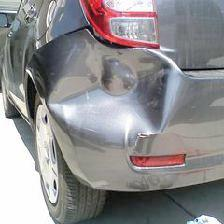bumper_dent: (48, 11, 186, 158)
